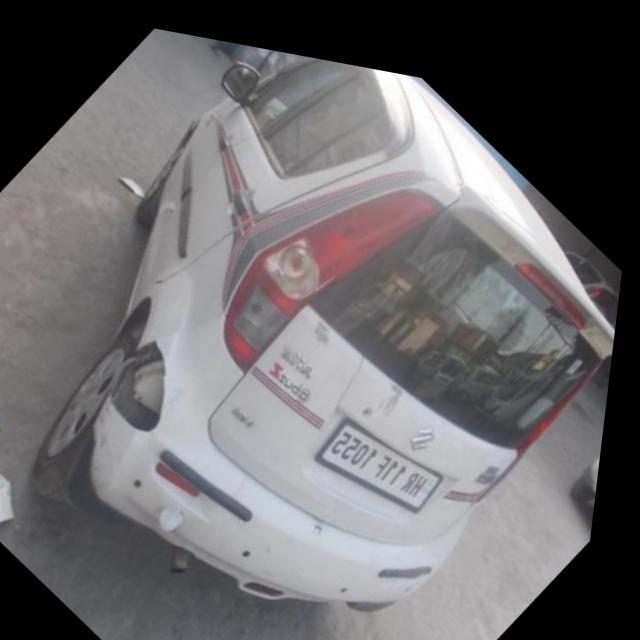dent: (157, 492, 200, 535)
no part: (104, 333, 184, 431)
scratch: (97, 398, 133, 487)
